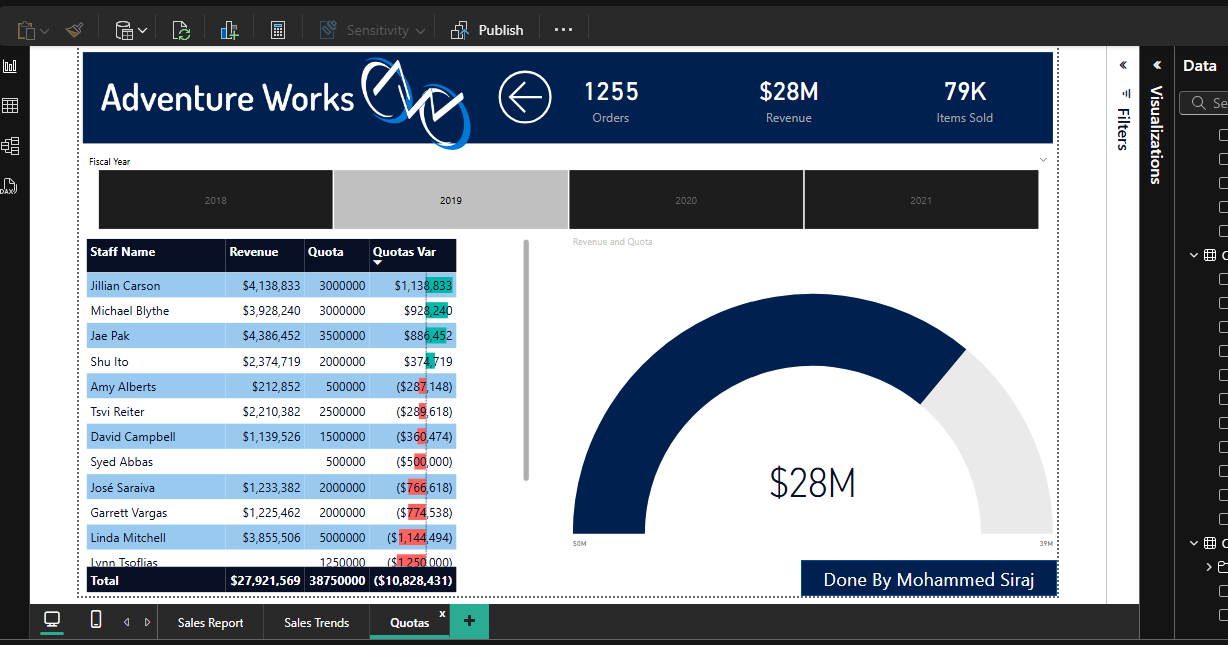

The dashboard page shown, as its layout file describes it:
{"tool":"powerbi","page":{"name":"Quotas","canvas":[1280,720],"ordinal":2},"visuals":[{"type":"image","box":[0,0,1280,143.1],"z":0},{"type":"card","fields":{"Values":["Order_Items.Orders"]},"box":[594.6,16.3,203.6,102.4],"z":1000},{"type":"card","fields":{"Values":["Order_Items.Revenue"]},"box":[827.3,16.3,203.6,102.4],"z":2000},{"type":"card","fields":{"Values":["Order_Items.Items Sold"]},"box":[1057.7,16.3,203.6,102.4],"z":3000},{"type":"slicer","fields":{"Values":["Calendar.Fiscal Year"]},"box":[0,137.4,1279.7,109.4],"z":4000},{"type":"actionButton","box":[540.7,23.5,99.9,86.7],"z":5000},{"type":"gauge","fields":{"MaxValue":["Quotas.Quota"],"Y":["Order_Items.Revenue"]},"box":[641.1,246.8,638.6,473.2],"z":6000},{"type":"tableEx","fields":{"Values":["Staff.Staff Name","Order_Items.Revenue","Quotas.Quota","Quotas.Quotas Var"]},"box":[4.4,246.9,590.7,473.1],"z":7000},{"type":"shape","box":[944.8,673,335,47],"z":8000}]}

Visuals, with their boxes on the page's 1280x720 design canvas (x1, y1, x2, y2). These are canvas units, not pixel positions in the 1228x645 screenshot, which may show the page scaled, cropped or inside an application window:
image: [x1=0, y1=0, x2=1280, y2=143]
card - Order_Items.Orders: [x1=595, y1=16, x2=798, y2=119]
card - Order_Items.Revenue: [x1=827, y1=16, x2=1031, y2=119]
card - Order_Items.Items Sold: [x1=1058, y1=16, x2=1261, y2=119]
slicer - Calendar.Fiscal Year: [x1=0, y1=137, x2=1280, y2=247]
actionButton: [x1=541, y1=24, x2=641, y2=110]
gauge - Quotas.Quota x Order_Items.Revenue: [x1=641, y1=247, x2=1280, y2=720]
tableEx - Staff.Staff Name x Order_Items.Revenue: [x1=4, y1=247, x2=595, y2=720]
shape: [x1=945, y1=673, x2=1280, y2=720]
